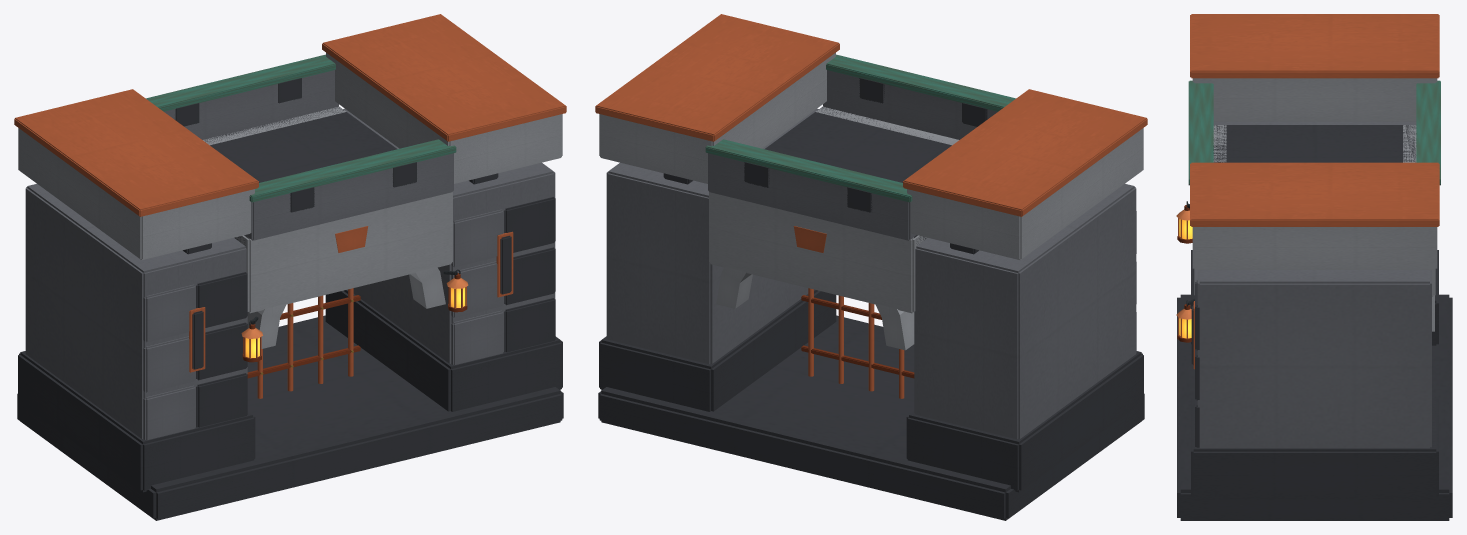
Rendered from gatehouse_copper_rampart.glb.
3 views of the same model, side by side, from view 1: azimuth 30°, elevation 25°; view 2: azimuth 150°, elevation 25°; view 3: azimuth 270°, elevation 25° (orthographic).
Visible parts, largest first — view 1: gatehouse_copper_rampart; view 2: gatehouse_copper_rampart; view 3: gatehouse_copper_rampart.
Boxes of the visible parts, x1,y1,x2,y2 form: gatehouse_copper_rampart: (14,14,566,520); gatehouse_copper_rampart: (595,14,1147,520); gatehouse_copper_rampart: (1176,14,1452,520).
Size of the model in its own units: 7.08 by 4.91 by 4.01.
1 material, 1 textured.
